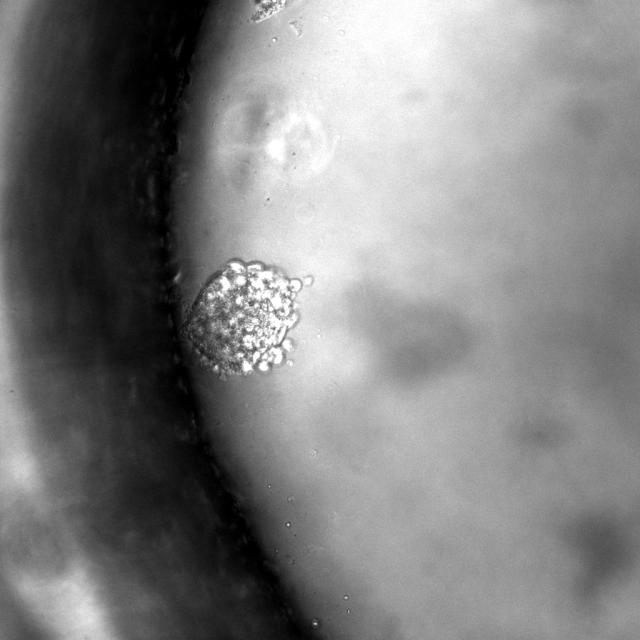organoid: (180, 259, 314, 378), (252, 0, 286, 22)
